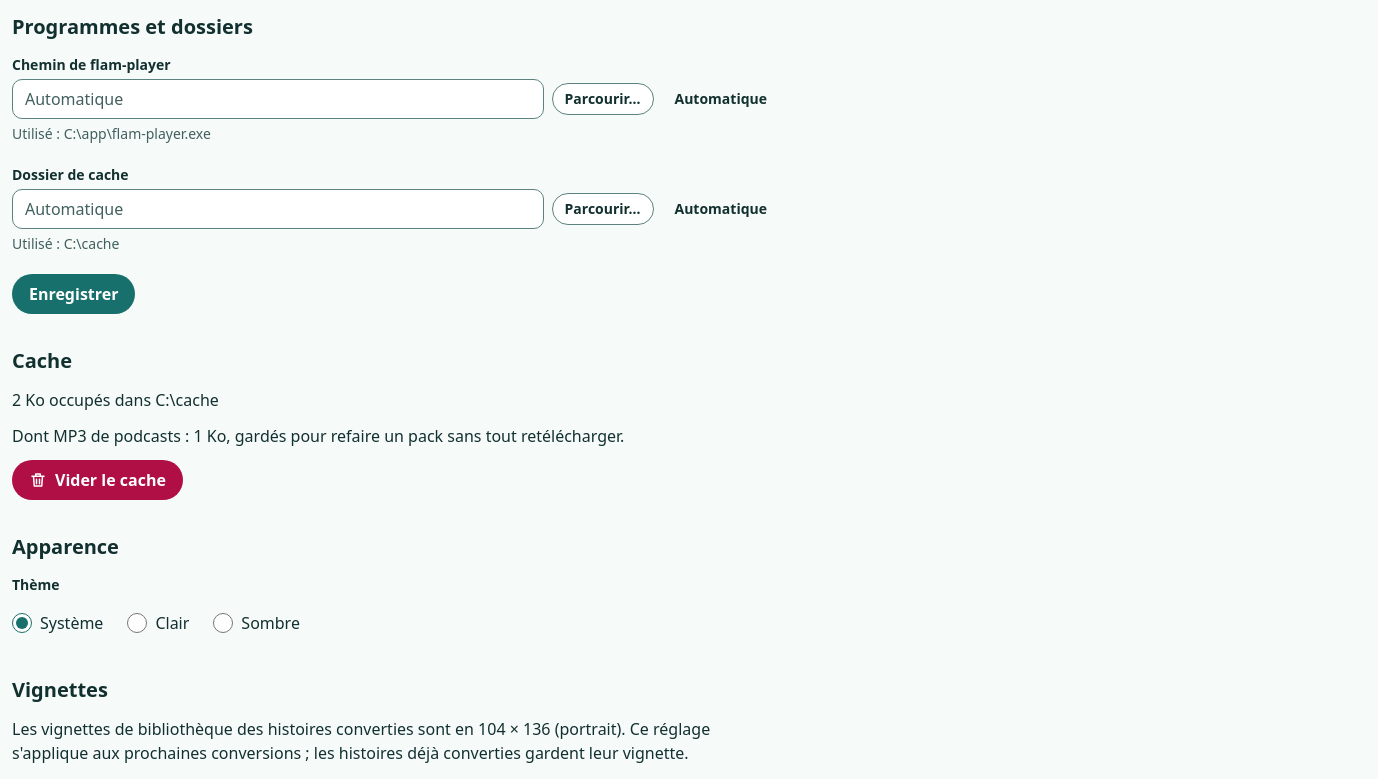
Scenario: enregistre l'objet complet avec les chemins choisis (sélecteurs natifs)
This screenshot has width=1378, height=779.
expect the field labelled "Chemin de flam-player" is shown: met, box x1=12 y1=79 x2=544 y2=119
Click the 1st button "Parcourir…": (603, 99) x1=552 y1=83 x2=654 y2=115
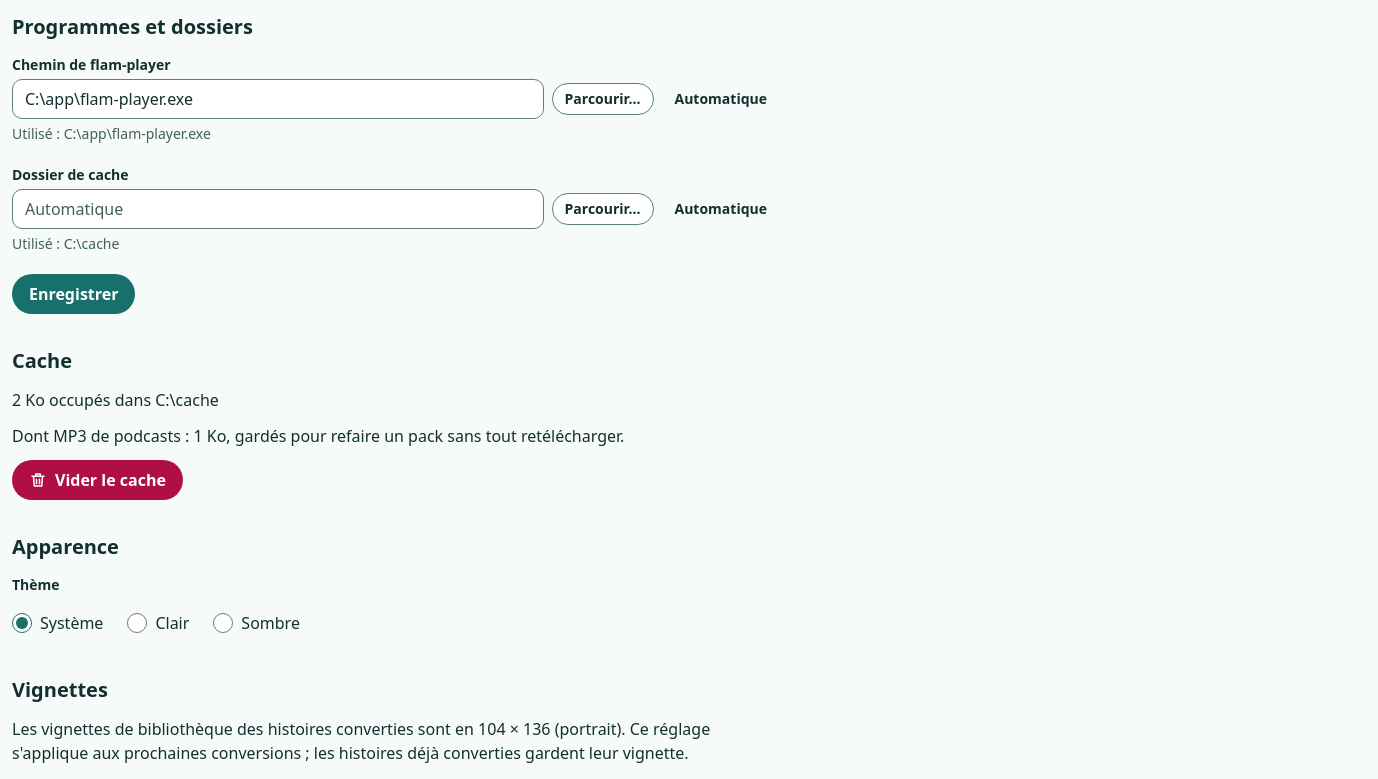
expect the field labelled "Chemin de flam-player" holds "C:\\app\\flam-player.exe": met, box x1=12 y1=79 x2=544 y2=119
Click the 2nd button "Parcourir…": (603, 209) x1=552 y1=193 x2=654 y2=225
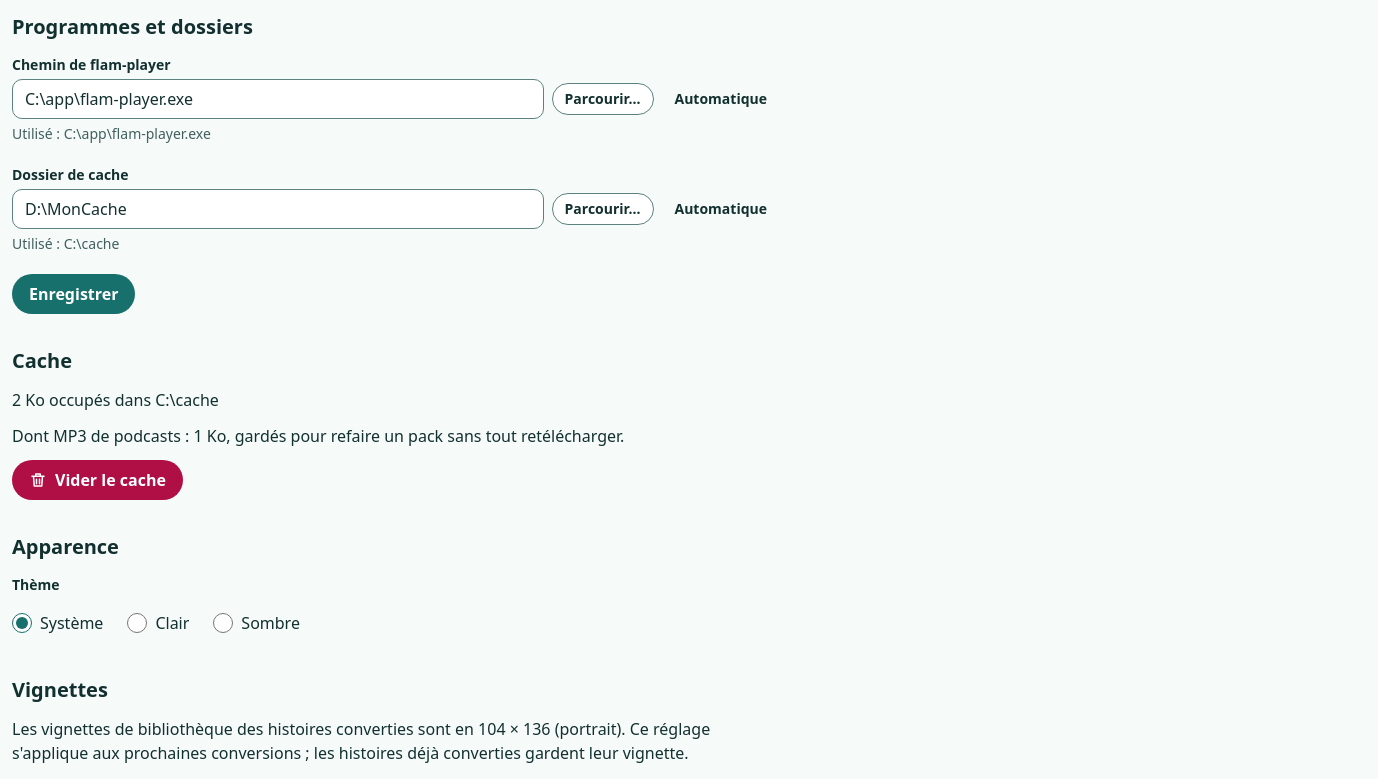
expect the field labelled "Dossier de cache" holds "D:\\MonCache": met, box x1=12 y1=189 x2=544 y2=229
Click the button "Enregistrer": (74, 294) x1=12 y1=274 x2=136 y2=314
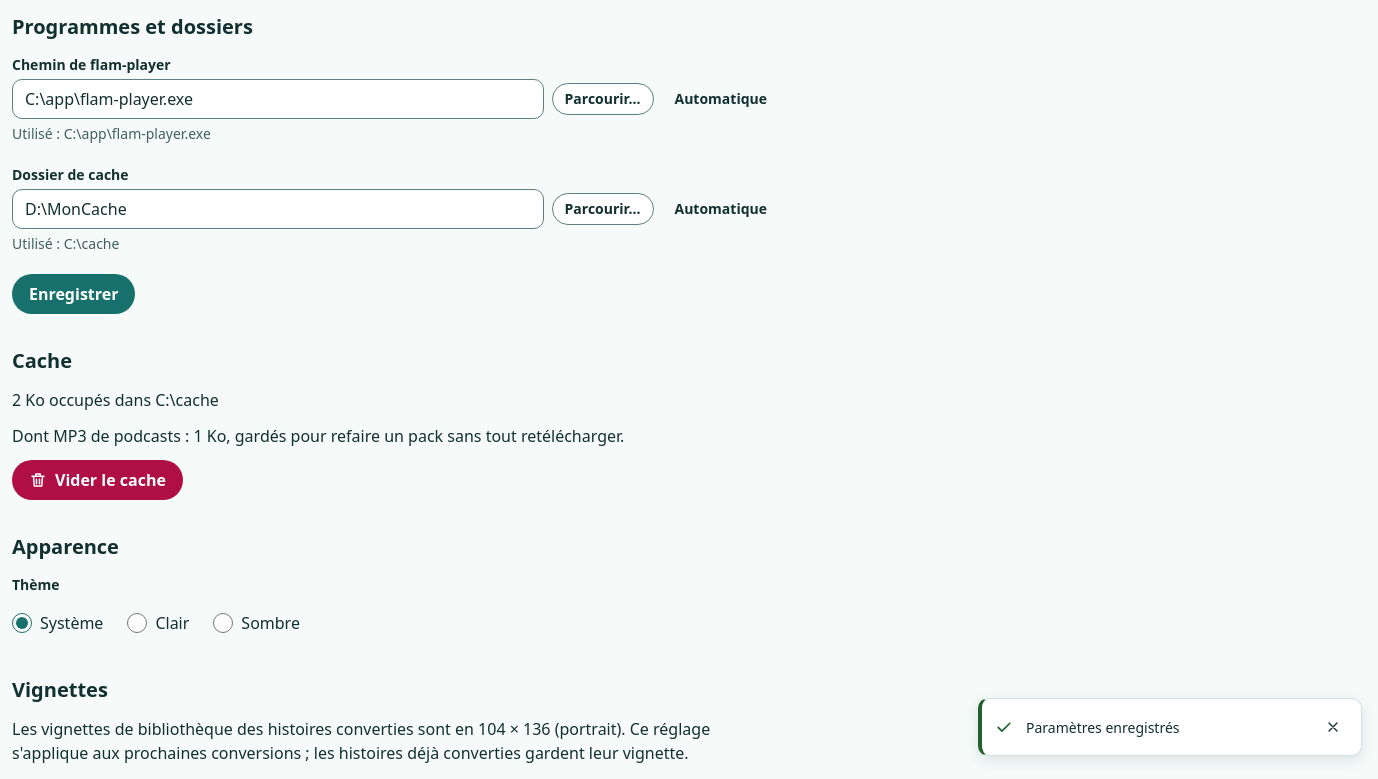
expect the text "Paramètres enregistrés" is shown: met, box x1=1026 y1=718 x2=1180 y2=737
